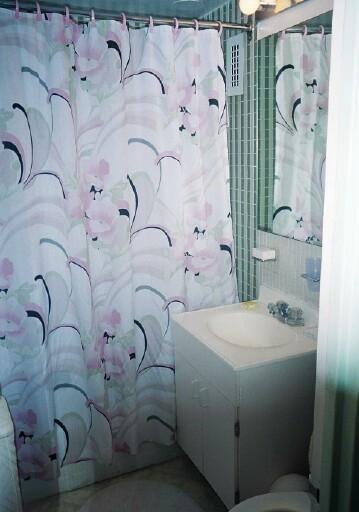Ducha: (6, 12, 232, 429)
Lavamanos: (208, 288, 311, 368)
